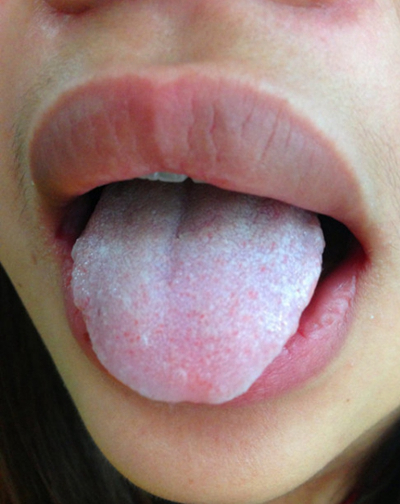baitaishe: (70, 193, 325, 406)
hongdianshe: (110, 313, 145, 357)
